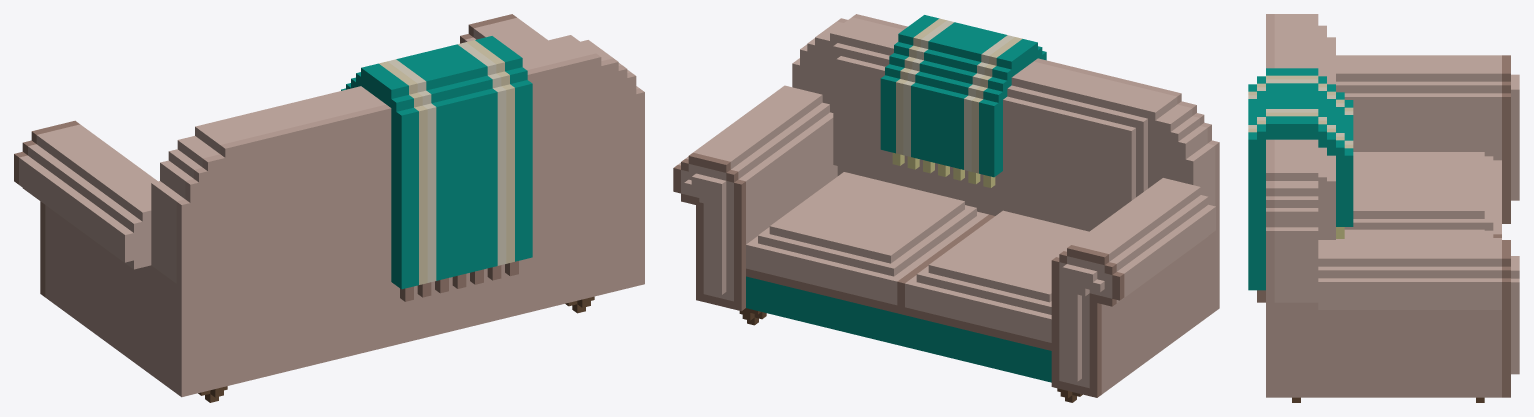
File: couch.glb
3 renders of one model, left to right at view 1: azimuth 30°, elevation 25°; view 2: azimuth 150°, elevation 25°; view 3: azimuth 270°, elevation 25°, orthographic. The views are drawn at different scales.
Visible parts, largest first — view 1: model; view 2: model; view 3: model.
Boxes of the visible parts, left/top/right/bottom form: model: left=14, top=14, right=644, bottom=402; model: left=673, top=14, right=1219, bottom=402; model: left=1248, top=14, right=1519, bottom=402.
Size of the model in its own units: 2.04 by 1.07 by 1.07.
